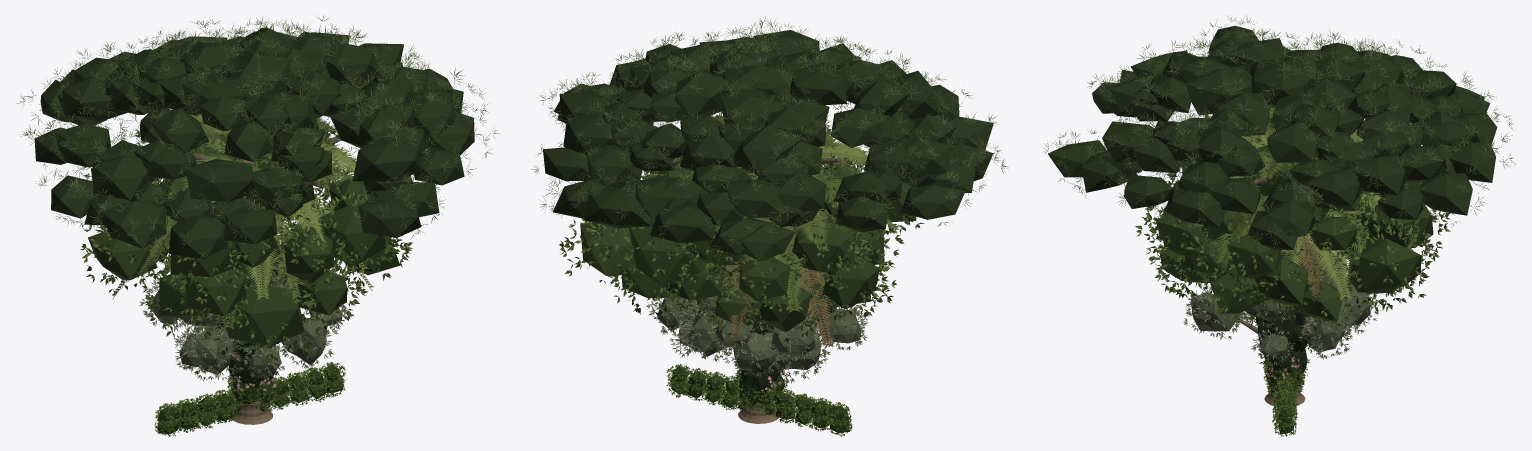
The model's file is veg.glb.
The picture shows the model from 3 angles, left to right: view 1: azimuth 30°, elevation 25°; view 2: azimuth 150°, elevation 25°; view 3: azimuth 270°, elevation 25°; orthographic projection. The views are drawn at different scales.
Parts seen in each view (by area): view 1: Veg_pine, Veg_oak, Veg_olive, Veg_palm, Veg_hedge, Veg_cypress, Veg_oleander; view 2: Veg_pine, Veg_oak, Veg_olive, Veg_palm, Veg_hedge, Veg_cypress, Veg_oleander; view 3: Veg_pine, Veg_oak, Veg_olive, Veg_palm, Veg_cypress, Veg_hedge, Veg_oleander.
Part boxes in pixels (x1,y1,x2,y2): Veg_pine: [16, 15, 499, 259]; Veg_oak: [80, 114, 412, 363]; Veg_olive: [139, 253, 347, 381]; Veg_palm: [112, 109, 373, 424]; Veg_hedge: [154, 362, 345, 436]; Veg_cypress: [228, 259, 279, 407]; Veg_oleander: [227, 373, 277, 410]; Veg_pine: [531, 16, 1008, 265]; Veg_oak: [559, 111, 927, 342]; Veg_olive: [646, 252, 868, 383]; Veg_palm: [654, 115, 898, 423]; Veg_hedge: [666, 364, 852, 436]; Veg_cypress: [734, 265, 782, 407]; Veg_oleander: [735, 369, 788, 411]; Veg_pine: [1044, 16, 1515, 262]; Veg_oak: [1135, 114, 1450, 330]; Veg_olive: [1183, 237, 1379, 366]; Veg_palm: [1164, 107, 1382, 405]; Veg_cypress: [1255, 235, 1312, 390]; Veg_hedge: [1272, 378, 1298, 436]; Veg_oleander: [1263, 356, 1307, 393].
Size of the model in its own units: 14.29 by 11.8 by 14.5.
